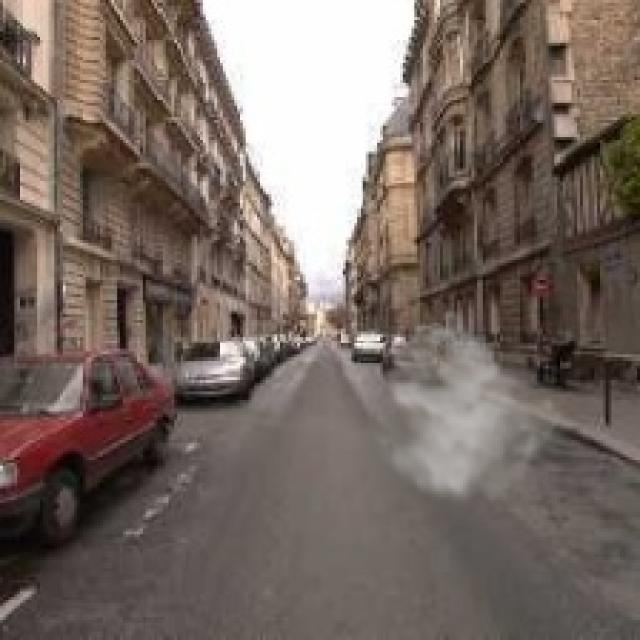Smoke: (362, 306, 578, 508)
